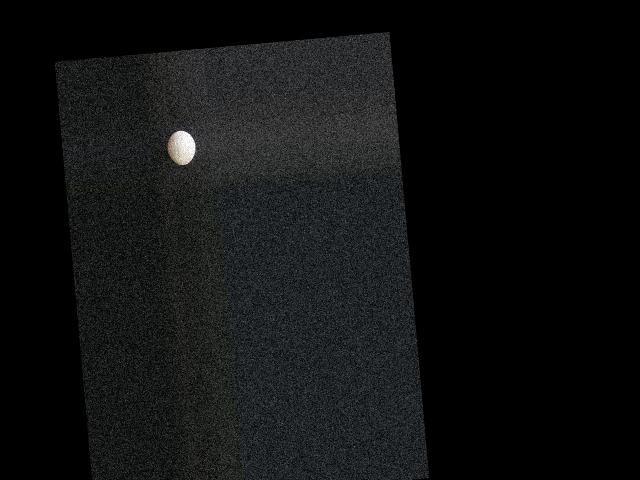egg: (166, 130, 196, 166)
